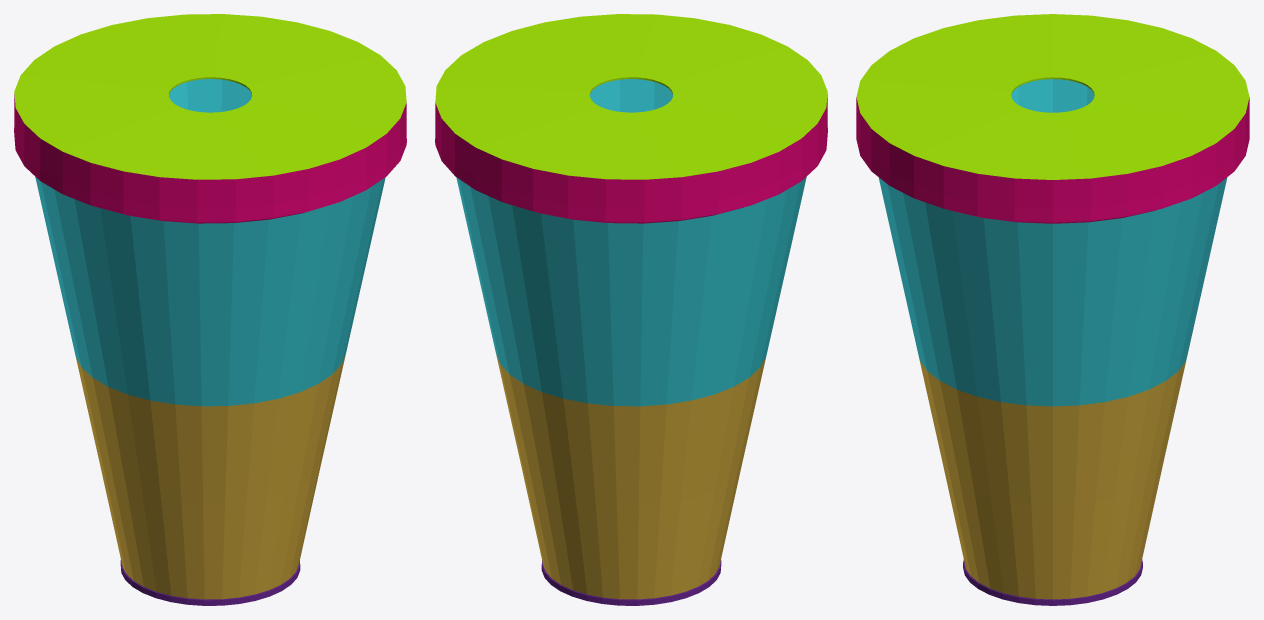
The model's file is bubbleTeaCupColoured.fbx.
3 views of the same model, side by side, from view 1: azimuth 30°, elevation 25°; view 2: azimuth 150°, elevation 25°; view 3: azimuth 270°, elevation 25° (orthographic).
Visible parts, largest first — view 1: Cylinder.001, lid, cup rim, cup base; view 2: Cylinder.001, lid, cup rim, cup base; view 3: Cylinder.001, lid, cup rim, cup base.
Boxes of the visible parts, <box> form: Cylinder.001: <box>35,79,385,599</box>; lid: <box>14,14,406,179</box>; cup rim: <box>14,94,406,223</box>; cup base: <box>120,560,300,605</box>; Cylinder.001: <box>456,79,806,599</box>; lid: <box>435,14,827,179</box>; cup rim: <box>435,94,827,223</box>; cup base: <box>541,560,721,605</box>; Cylinder.001: <box>878,79,1227,599</box>; lid: <box>856,14,1249,179</box>; cup rim: <box>856,97,1249,223</box>; cup base: <box>963,559,1142,605</box>.
Size of the model in its own units: 215 by 285 by 215.
